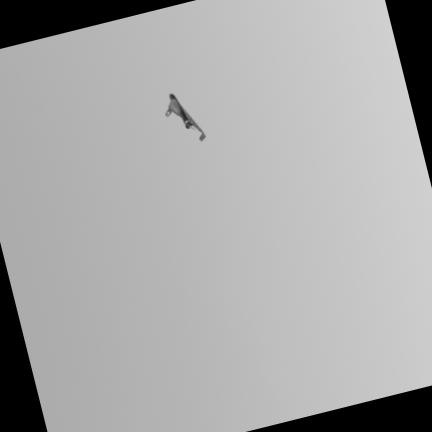Shahed: (165, 93, 205, 139)
